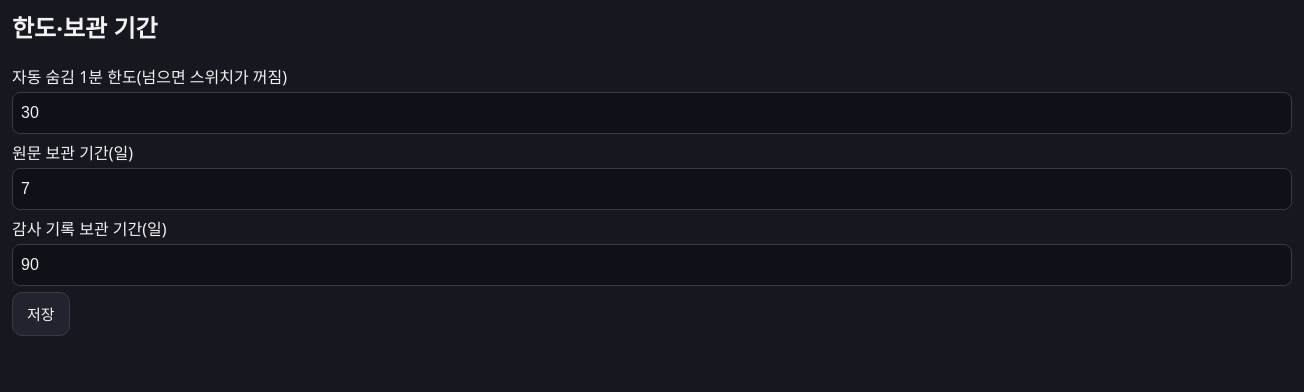
Scenario: LimitsSection 검증 › 저장 메시지는 다시 고치면 사라진다
Type "1" into the number field labelled "원문 보관 기간(일)" at (652, 189), box top-left (12, 168), bottom-right (1292, 210)
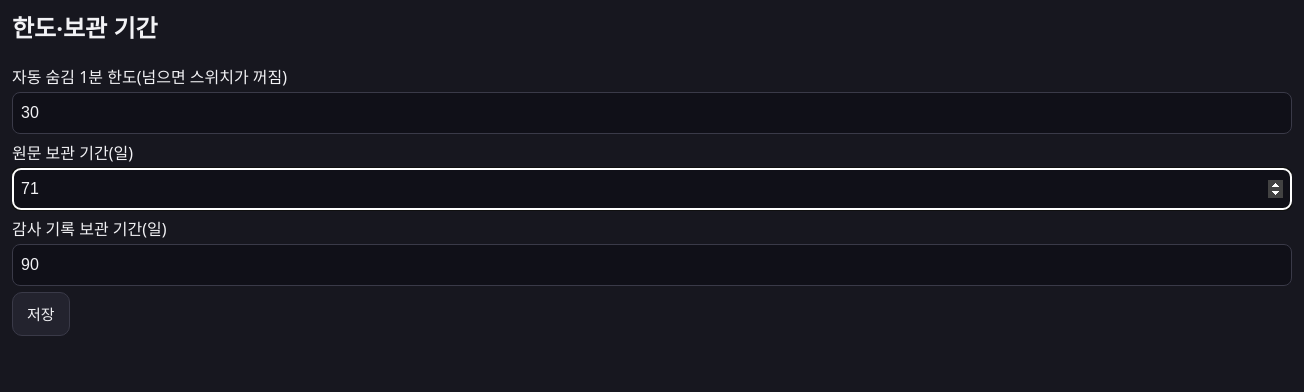
Click the button "저장" at (41, 314), box top-left (12, 292), bottom-right (70, 336)
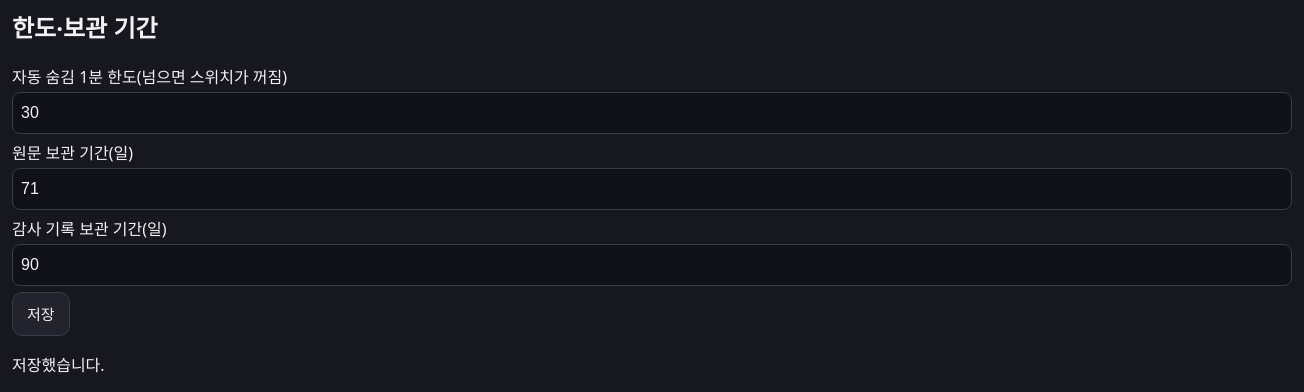
Expected: the text "저장했습니다." is shown, top-left (12, 354), bottom-right (105, 376)
Type "1" into the number field labelled "원문 보관 기간(일)" at (652, 189), box top-left (12, 168), bottom-right (1292, 210)
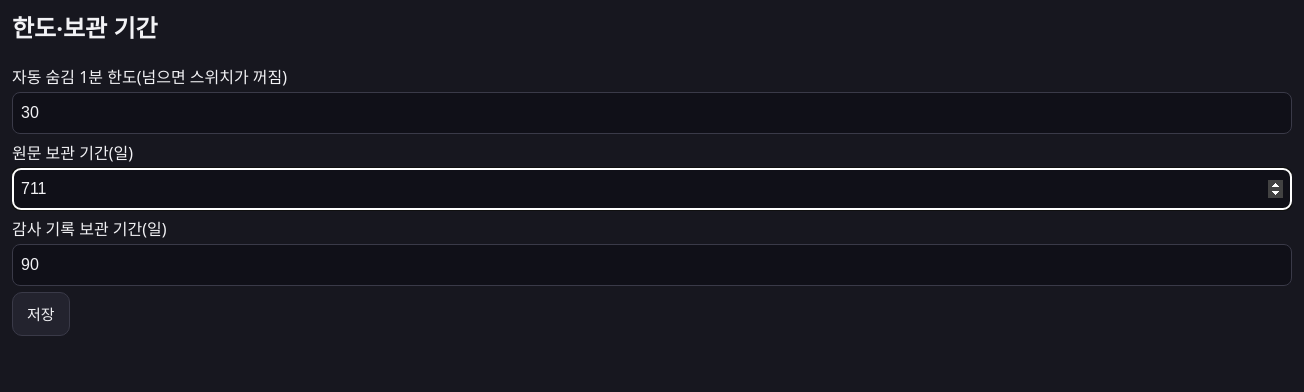
Expected: the text "저장했습니다." is gone
